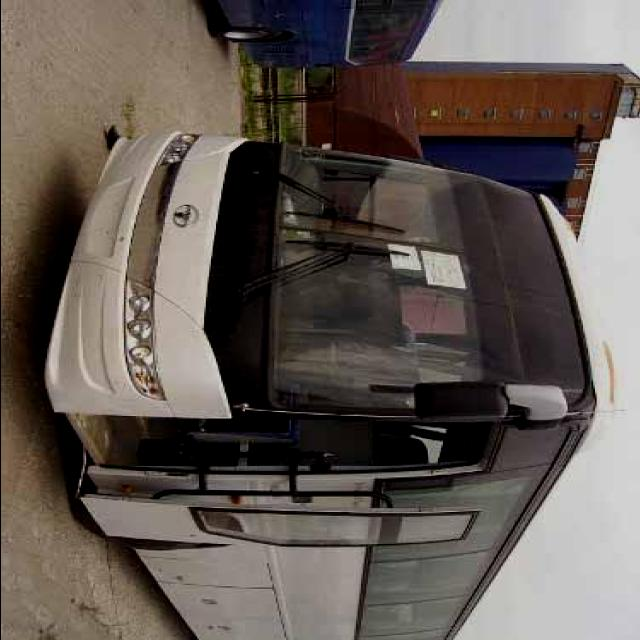bus: (34, 122, 621, 640)
